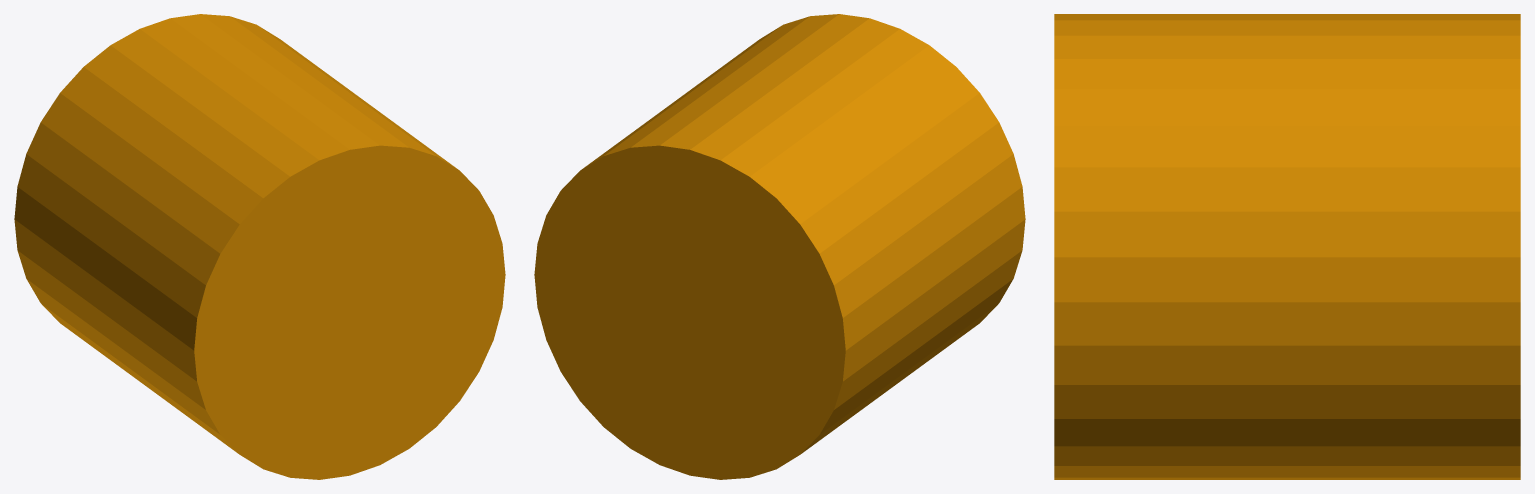
File: coil.glb
The picture shows the model from 3 angles, left to right: view 1: azimuth 30°, elevation 25°; view 2: azimuth 150°, elevation 25°; view 3: azimuth 270°, elevation 25°; orthographic projection. The views are drawn at different scales.
Visible parts, largest first — view 1: world; view 2: world; view 3: world.
Part boxes in pixels (bbox=[...]): world: bbox=[14, 14, 505, 479]; world: bbox=[534, 14, 1025, 479]; world: bbox=[1054, 14, 1520, 479].
Bounding box in the file's own units: 1 × 1 × 1.
